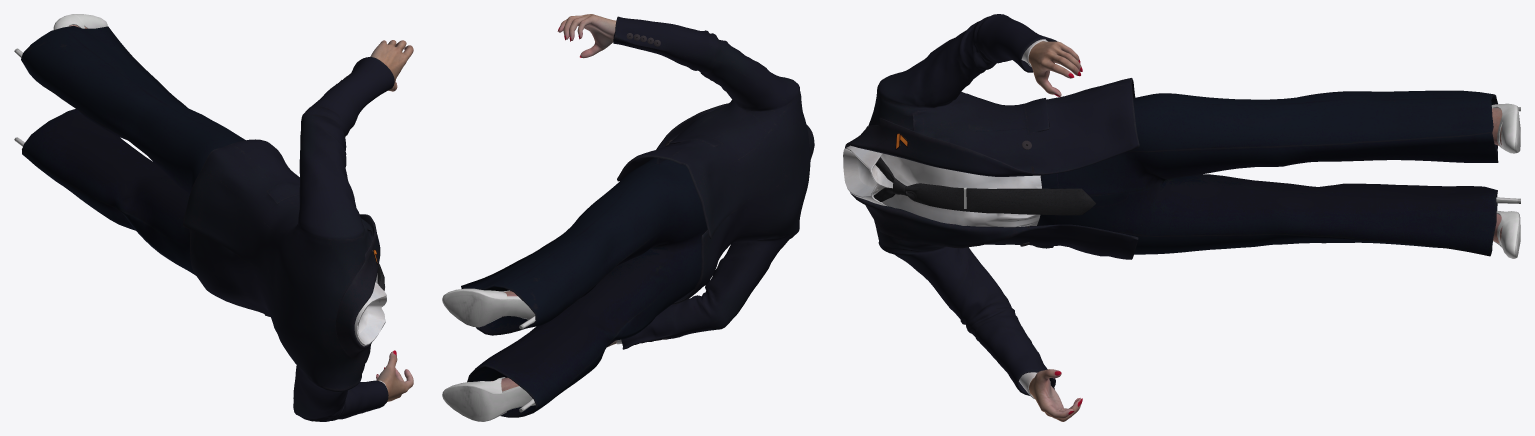
File: body_c_sat_usa_pl_sunflower_base_LOD0.obj
3 views of the same model, side by side, from view 1: azimuth 30°, elevation 25°; view 2: azimuth 150°, elevation 25°; view 3: azimuth 270°, elevation 25° (orthographic). The views are drawn at different scales.
Parts seen in each view (by area): view 1: material_3bd8c2349a6d7710, material_720a46c2d8621d5c, material_394ad4ee6e164234, material_b4a136b6c671c41, material_6c457ee9eefd3224, material_2be7b38e12f76d1f, material_306c8ea927fdce6f; view 2: material_720a46c2d8621d5c, material_3bd8c2349a6d7710, material_394ad4ee6e164234, material_b4a136b6c671c41, material_306c8ea927fdce6f, material_6c457ee9eefd3224; view 3: material_720a46c2d8621d5c, material_3bd8c2349a6d7710, material_b4a136b6c671c41, material_394ad4ee6e164234, material_2be7b38e12f76d1f, material_266645186f850c64, material_6c457ee9eefd3224, material_306c8ea927fdce6f.
Part boxes in pixels (x1,y1,x2,y2): material_3bd8c2349a6d7710: (182, 139, 380, 388); material_720a46c2d8621d5c: (21, 25, 245, 275); material_394ad4ee6e164234: (298, 57, 394, 240); material_b4a136b6c671c41: (293, 365, 388, 421); material_6c457ee9eefd3224: (370, 40, 413, 401); material_2be7b38e12f76d1f: (354, 273, 386, 346); material_306c8ea927fdce6f: (14, 14, 107, 146); material_720a46c2d8621d5c: (461, 157, 707, 417); material_3bd8c2349a6d7710: (617, 91, 814, 304); material_394ad4ee6e164234: (613, 16, 799, 111); material_b4a136b6c671c41: (621, 229, 799, 349); material_306c8ea927fdce6f: (442, 288, 535, 421); material_6c457ee9eefd3224: (557, 14, 616, 346); material_720a46c2d8621d5c: (1037, 90, 1498, 256); material_3bd8c2349a6d7710: (845, 78, 1139, 259); material_b4a136b6c671c41: (878, 242, 1055, 395); material_394ad4ee6e164234: (877, 14, 1057, 108); material_2be7b38e12f76d1f: (843, 145, 1041, 227); material_266645186f850c64: (873, 157, 1096, 215); material_6c457ee9eefd3224: (1028, 41, 1082, 421); material_306c8ea927fdce6f: (1491, 103, 1520, 258).
Bounding box in the file's own units: 55.92 × 98.24 × 162.
